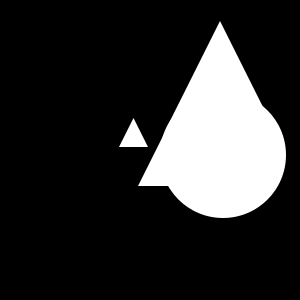rectangle: (160, 92, 286, 218)
triangle: (168, 21, 272, 125), (138, 100, 224, 186), (119, 118, 148, 147)
